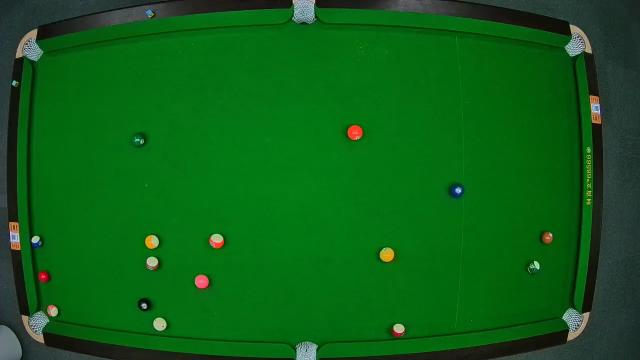bag1: (22, 40, 42, 61)
bag2: (292, 0, 316, 26)
bag3: (568, 36, 588, 54)
bag4: (28, 312, 48, 334)
bag5: (294, 340, 318, 360)
bag6: (563, 308, 583, 332)
ball0: (153, 317, 167, 331)
ball1: (379, 246, 395, 262)
ball10: (31, 235, 44, 249)
ball11: (390, 323, 406, 337)
ball12: (46, 304, 60, 318)
ball13: (208, 233, 224, 249)
ball14: (527, 260, 541, 274)
ball15: (145, 256, 159, 270)
ball2: (449, 182, 465, 198)
ball3: (36, 270, 52, 284)
ball4: (194, 274, 208, 290)
ball5: (347, 124, 363, 142)
ball6: (130, 132, 146, 148)
ball7: (540, 230, 554, 244)
ball8: (136, 296, 152, 312)
ball9: (146, 235, 160, 249)
